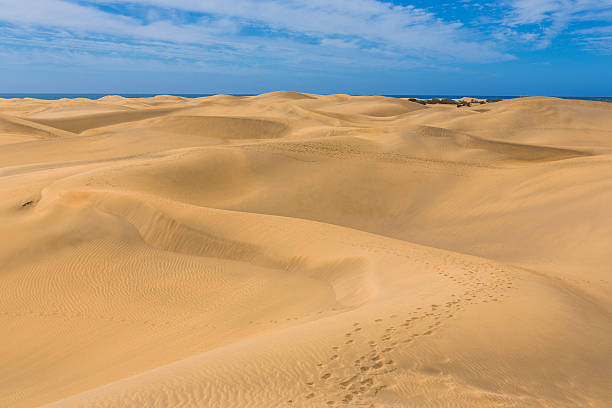human_footprint: (305, 263, 507, 405)
